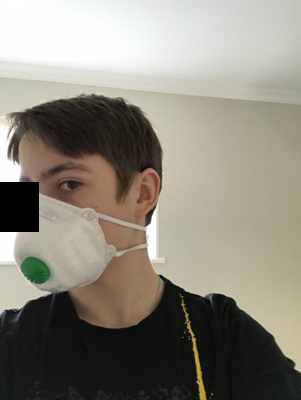with_mask: (12, 153, 125, 293)
